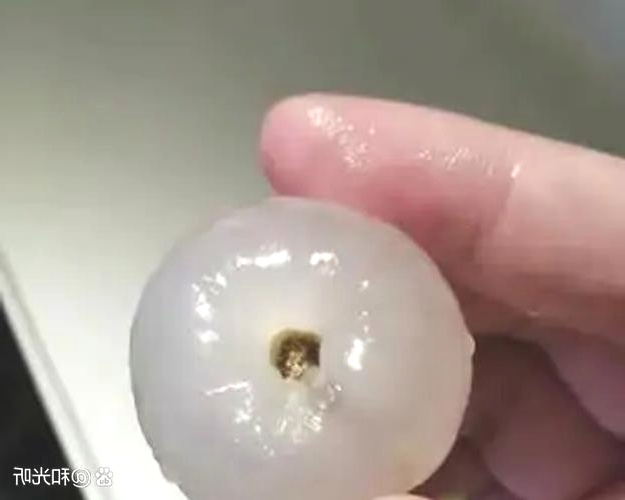Borer: (260, 320, 321, 406)
